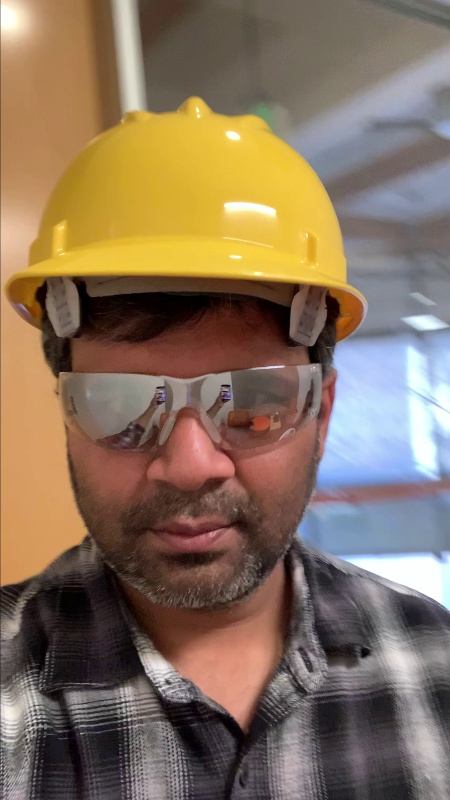glasses: (54, 362, 328, 446)
helmet: (22, 98, 349, 262)
